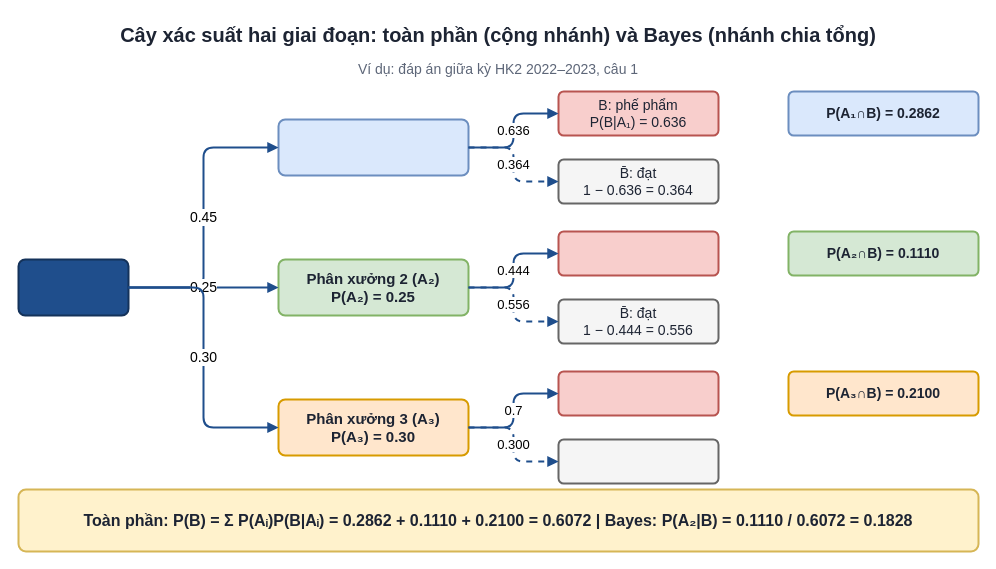
This 996x569 diagram has some shape labels left out. The shapes that lost their labels are listed below. From the top down, each one's centre as x and y in pixels, then its label:
the point at 373,147: Phân xưởng 1 (A₁) P(A₁) = 0.45
the point at 638,253: B: phế phẩm P(B|A₂) = 0.444
the point at 73,287: Chọn sản phẩm
the point at 638,393: B: phế phẩm P(B|A₃) = 0.7
the point at 638,461: B̄: đạt 1 − 0.7 = 0.300
